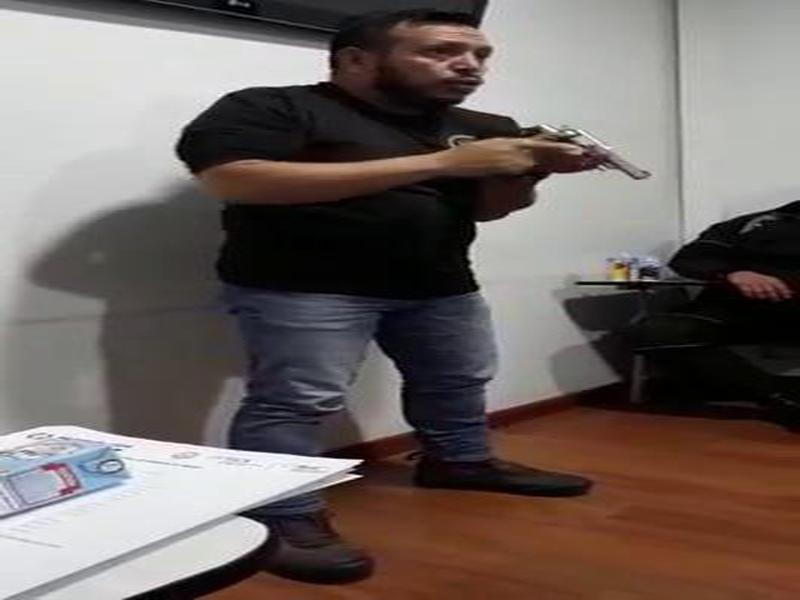Revolver: (488, 100, 653, 214)
